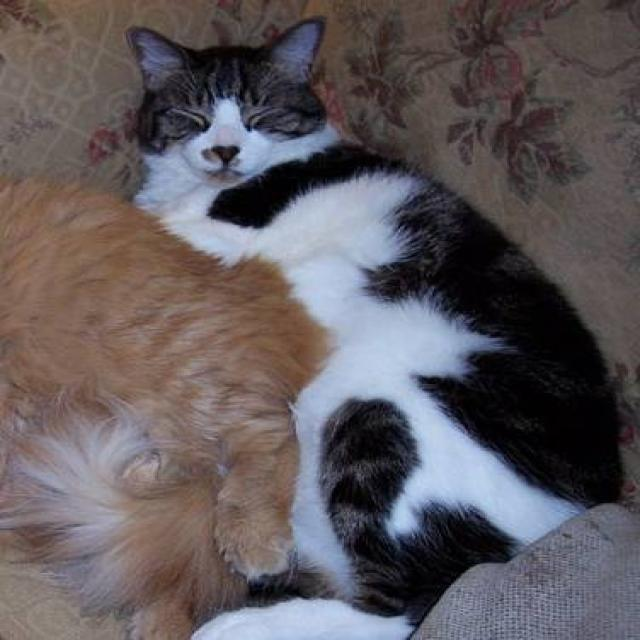cat: (44, 11, 635, 640), (0, 166, 341, 640)
